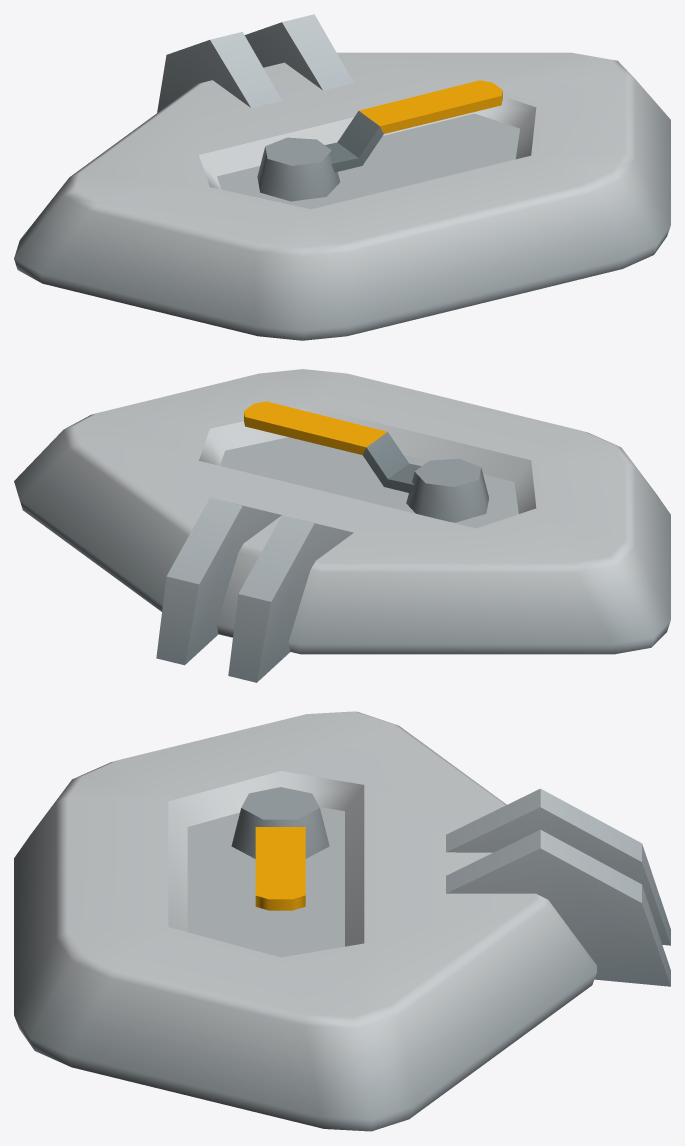
The model's file is Hatch_007_door_003.fbx.
The picture shows the model from 3 angles, top to bottom: view 1: azimuth 30°, elevation 25°; view 2: azimuth 150°, elevation 25°; view 3: azimuth 270°, elevation 25°; orthographic projection. The views are drawn at different scales.
Visible parts, largest first — view 1: Hatch_007_door_003; view 2: Hatch_007_door_003; view 3: Hatch_007_door_003.
Boxes of the visible parts, left/top/right/bottom form: Hatch_007_door_003: left=14, top=14, right=670, bottom=340; Hatch_007_door_003: left=14, top=369, right=670, bottom=682; Hatch_007_door_003: left=14, top=711, right=670, bottom=1131.
Size of the model in its own units: 86.38 by 65.59 by 15.71.
